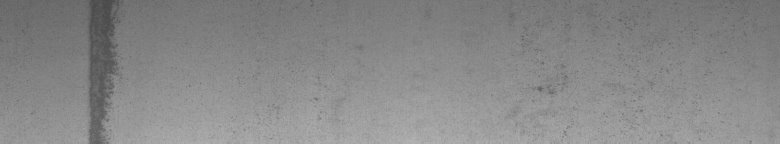hd: (83, 4, 128, 136)
